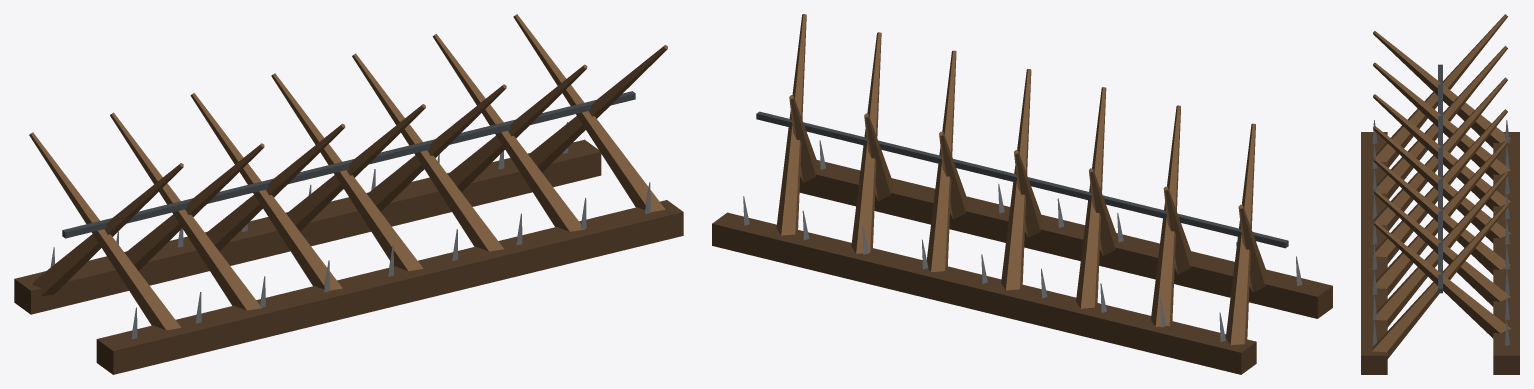
The model's file is perimeter_spike_strip.glb.
3 renders of one model, left to right at view 1: azimuth 30°, elevation 25°; view 2: azimuth 150°, elevation 25°; view 3: azimuth 270°, elevation 25°, orthographic. The views are drawn at different scales.
Visible parts, largest first — view 1: perimeter_spike_strip_mesh; view 2: perimeter_spike_strip_mesh; view 3: perimeter_spike_strip_mesh.
Part boxes in pixels (x1=…): perimeter_spike_strip_mesh: x1=14, y1=14, x2=683, y2=374; perimeter_spike_strip_mesh: x1=712, y1=14, x2=1332, y2=374; perimeter_spike_strip_mesh: x1=1361, y1=14, x2=1519, y2=374.
Bounding box in the file's own units: 2 × 0.625 × 0.6.
